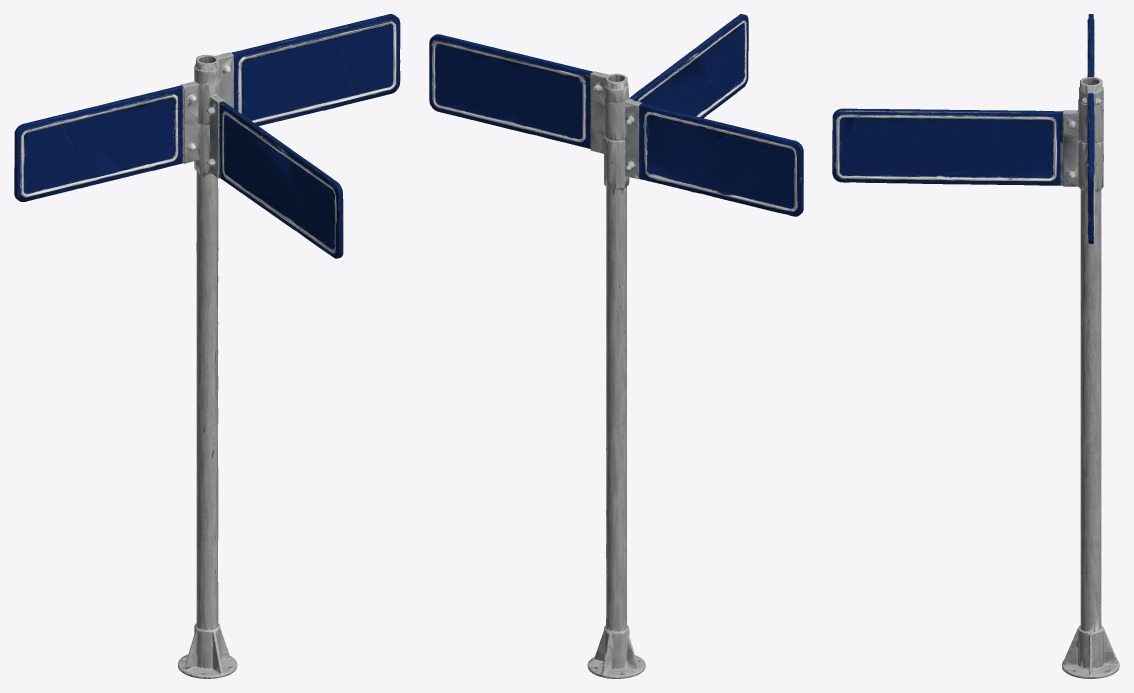
The model's file is placa-de-rua__01a16c1b.glb.
The picture shows the model from 3 angles, left to right: view 1: azimuth 30°, elevation 25°; view 2: azimuth 150°, elevation 25°; view 3: azimuth 270°, elevation 25°; orthographic projection. The views are drawn at different scales.
Parts seen in each view (by area): view 1: placa-de-rua; view 2: placa-de-rua; view 3: placa-de-rua.
Part boxes in pixels (bbox=[...]): placa-de-rua: bbox=[14, 14, 400, 678]; placa-de-rua: bbox=[429, 14, 803, 678]; placa-de-rua: bbox=[832, 14, 1119, 678].
Size of the model in its own units: 1.98 by 3 by 1.33.
1 material, 1 textured.
